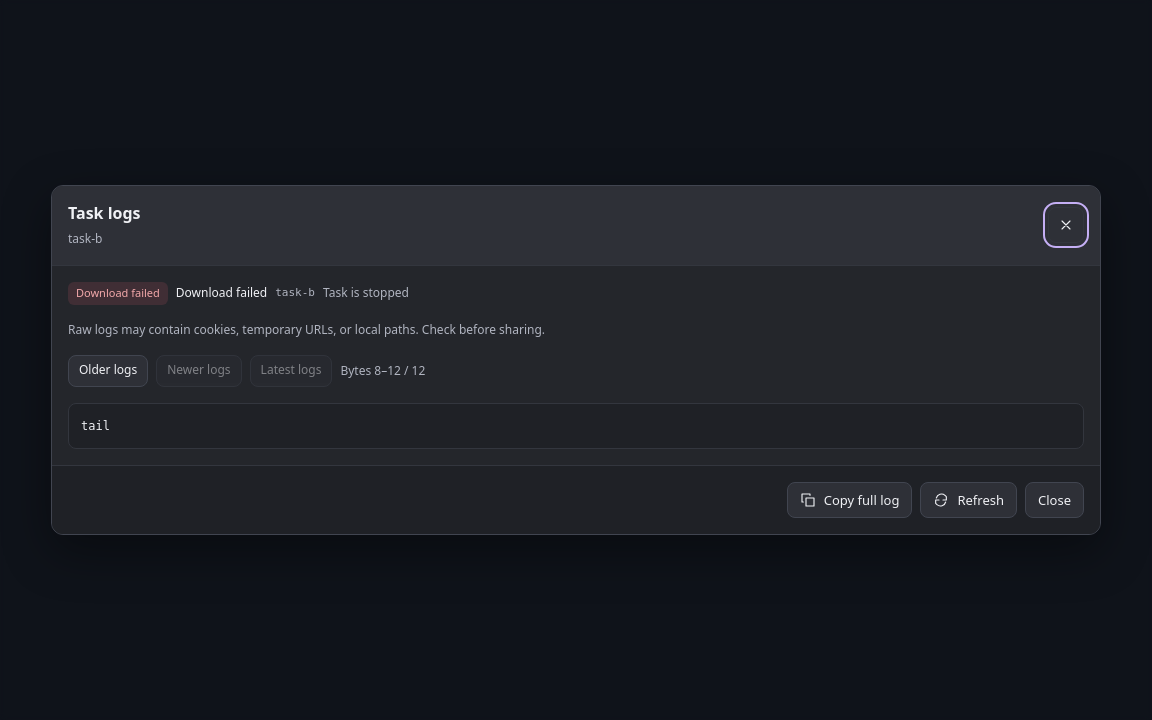
Test case: raw task logs › pages both directions and returns to the latest logs without claiming legacy summaries are raw history
Expected: the text named "Task log entries" is shown, [68, 403, 1084, 449]
Click the button "Older logs". click: click(108, 371)
box: [68, 355, 148, 387]
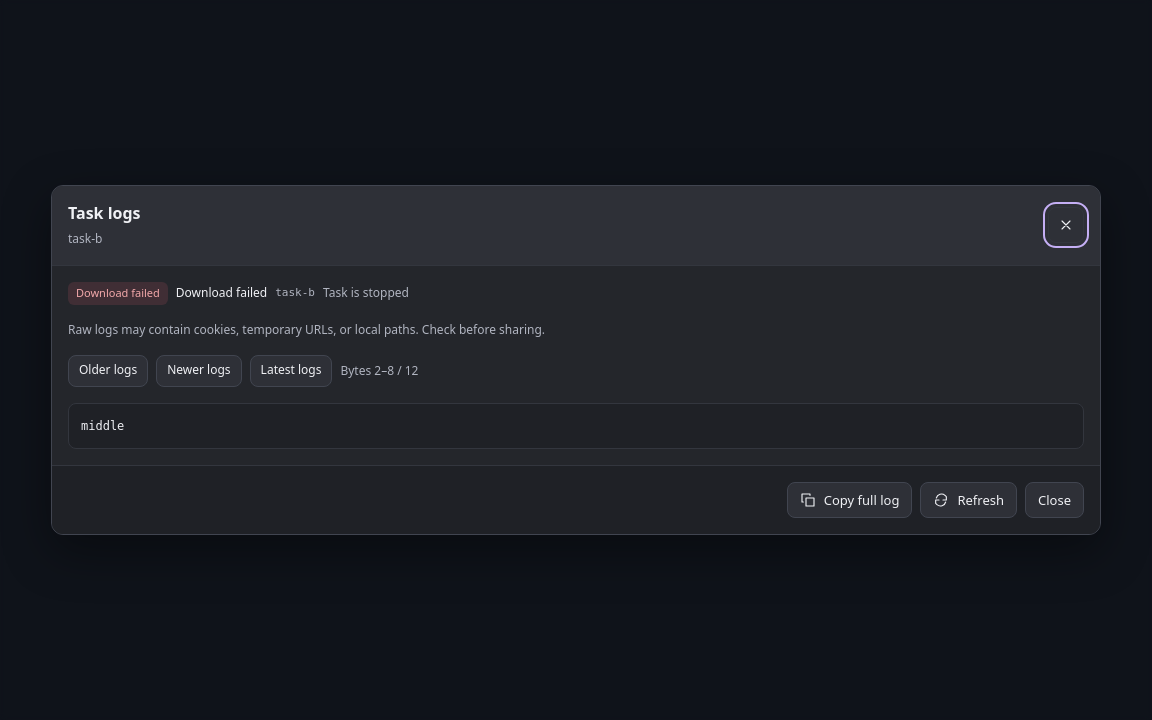
Now the text named "Task log entries" reads "middle", box [81, 419, 124, 433]
Click the button "Newer logs". click: click(199, 371)
box: [156, 355, 242, 387]
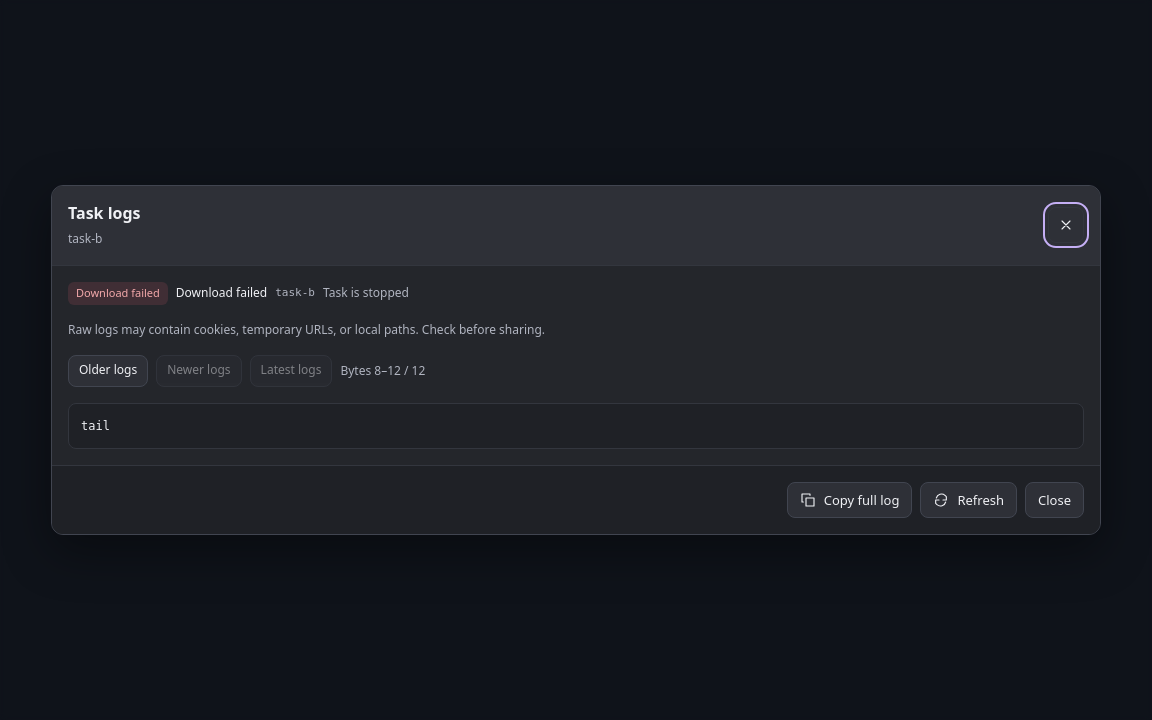
Now the text named "Task log entries" reads "tail", box [81, 419, 110, 433]
Click the button "Older logs". click: click(108, 371)
box: [68, 355, 148, 387]
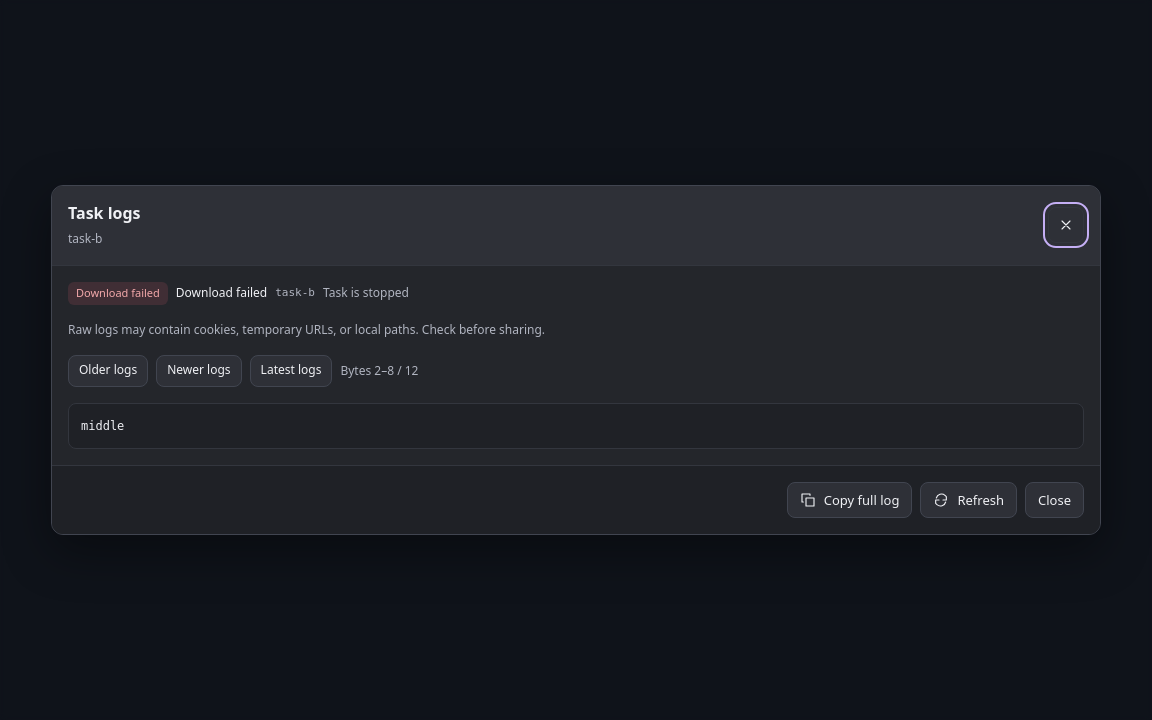
Now the text named "Task log entries" reads "middle", box [81, 419, 124, 433]
Click the button "Latest logs". click: click(291, 371)
box: [250, 355, 332, 387]
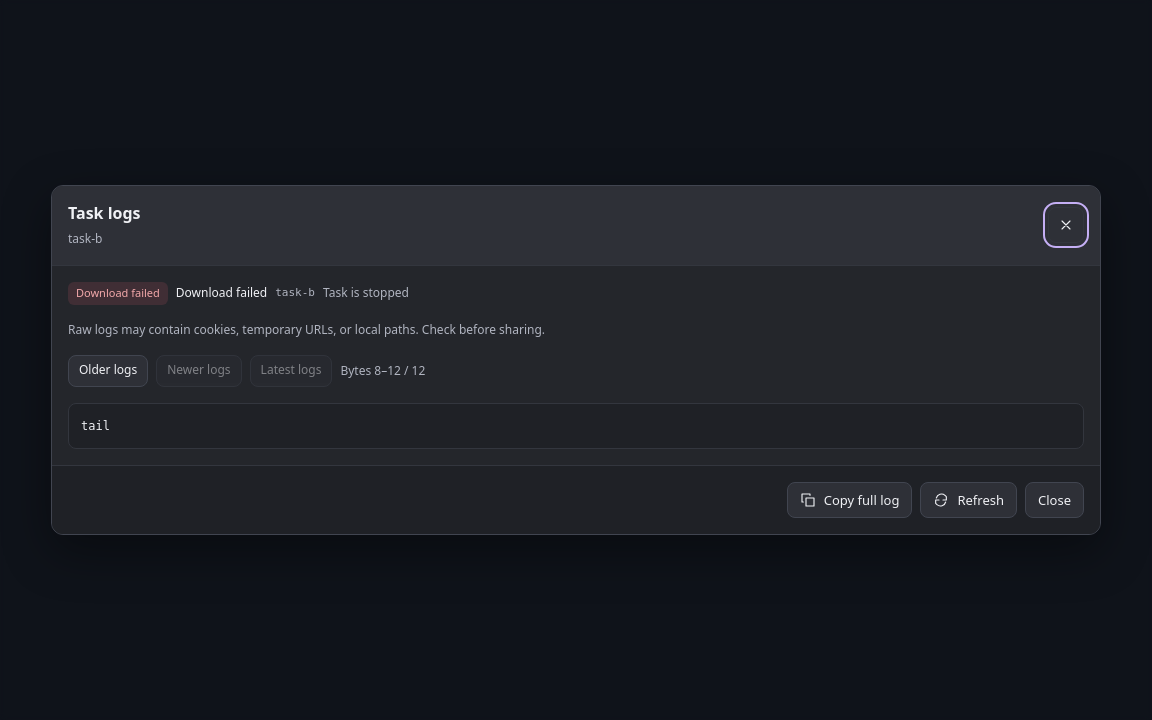
Now the text named "Task log entries" reads "tail", box [81, 419, 110, 433]
